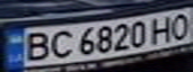0: (127, 17, 151, 47)
2: (112, 20, 133, 52)
6: (75, 25, 100, 56)
8: (93, 22, 115, 55)
B: (18, 29, 54, 63)
C: (45, 28, 75, 60)
H: (148, 14, 178, 44)
O: (166, 10, 193, 39)
